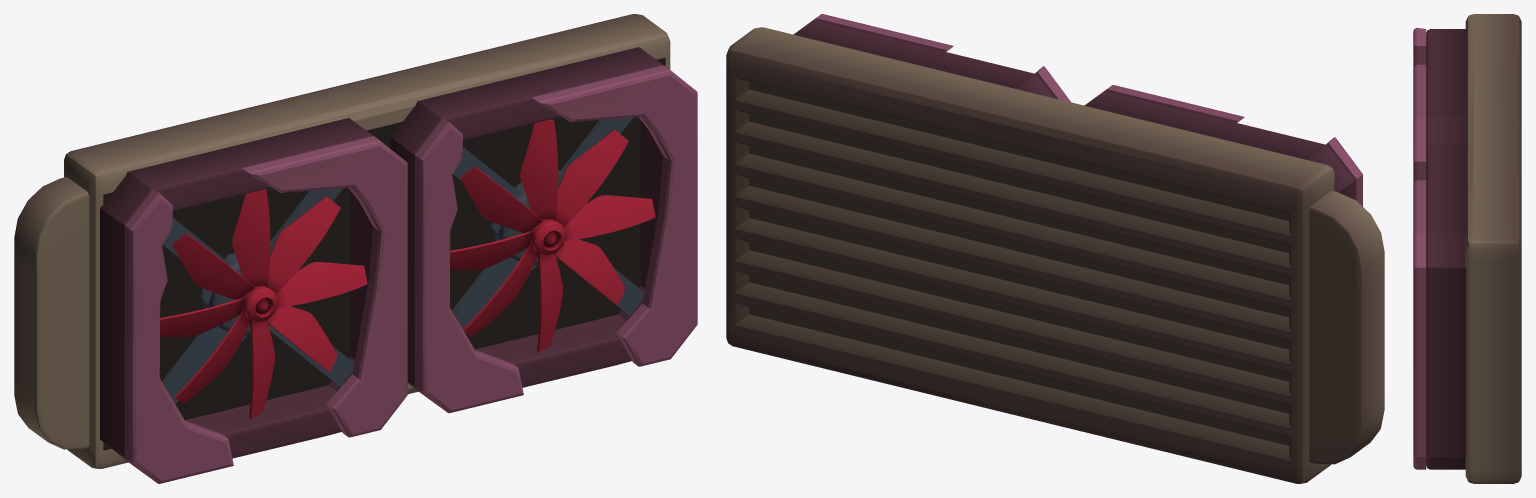
The model's file is Cooling_systems_lvl_10_V03.fbx.
The picture shows the model from 3 angles, left to right: view 1: azimuth 30°, elevation 25°; view 2: azimuth 150°, elevation 25°; view 3: azimuth 270°, elevation 25°; orthographic projection. The views are drawn at different scales.
Visible parts, largest first — view 1: Body_Cooling, Fan_Cooling_01.001, Fan_Cooling_01; view 2: Body_Cooling; view 3: Body_Cooling.
Part boxes in pixels (<box>): Body_Cooling: <box>14,14,697,483</box>; Fan_Cooling_01.001: <box>450,119,655,351</box>; Fan_Cooling_01: <box>160,189,367,418</box>; Body_Cooling: <box>726,14,1384,483</box>; Body_Cooling: <box>1413,14,1521,483</box>.
Bounding box in the file's own units: 119 × 53.89 × 21.63.
